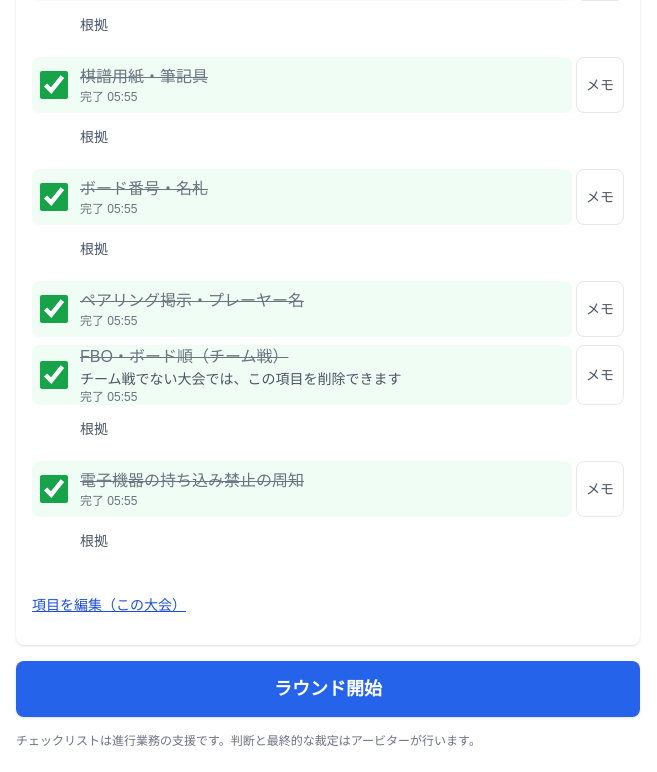
it: Round Checklist page › start without warnings when every pre-round item is checked
The width and height of the screenshot is (657, 772).
(page scrolled)
Click the button "ラウンド開始": (328, 689) [16,661,640,717]
(page scrolled)
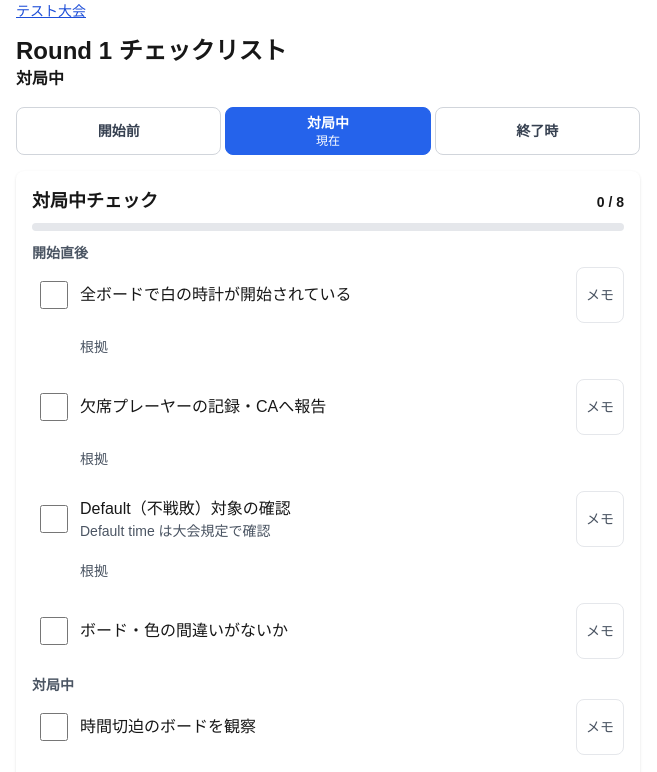
Check: the text with test id "round-status" reads "対局中", box [16,70,64,87]
